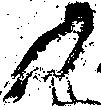Owl: (2, 2, 99, 105)
